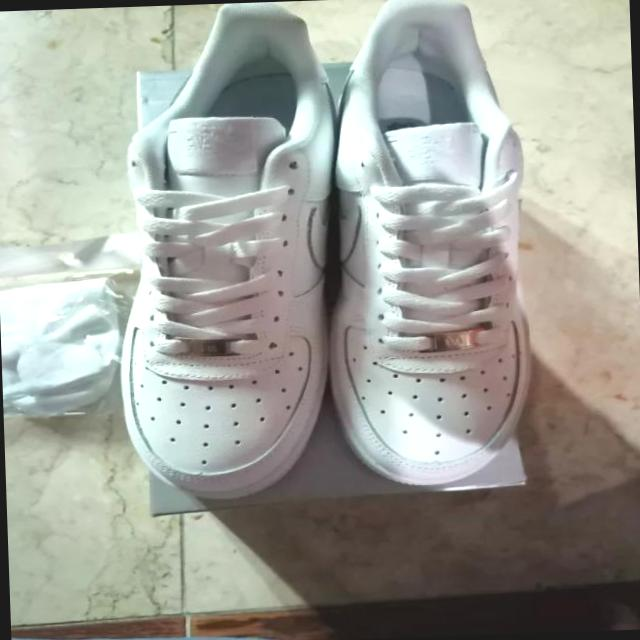nike_fake_airforce: (100, 1, 350, 509), (313, 0, 549, 493)
